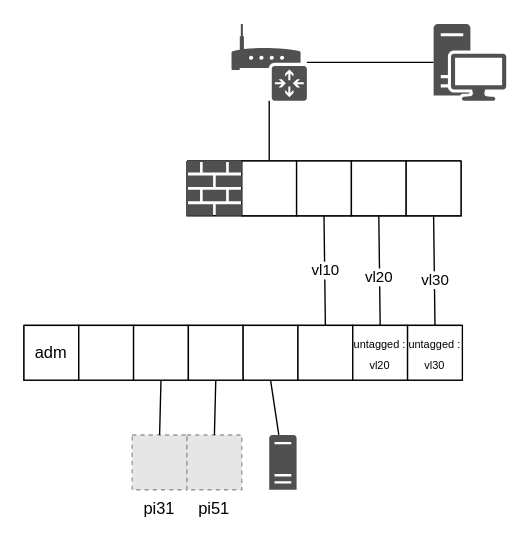
Image size: 530x541. Some labels were removed from this diagram. Grey dashed boxes stand in for pictures. Here are the shapes that lost their labels. From the top down, the centre of each, then its label:
At point 160,352: "trunk : vl10 vl20".
At point 325,352: "untagged : vl10".
At point 282,461: "srv1".
